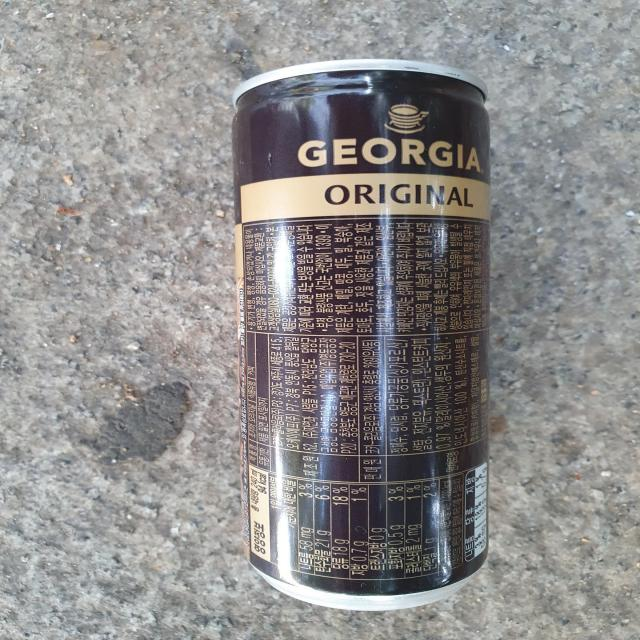can: (232, 59, 490, 612)
